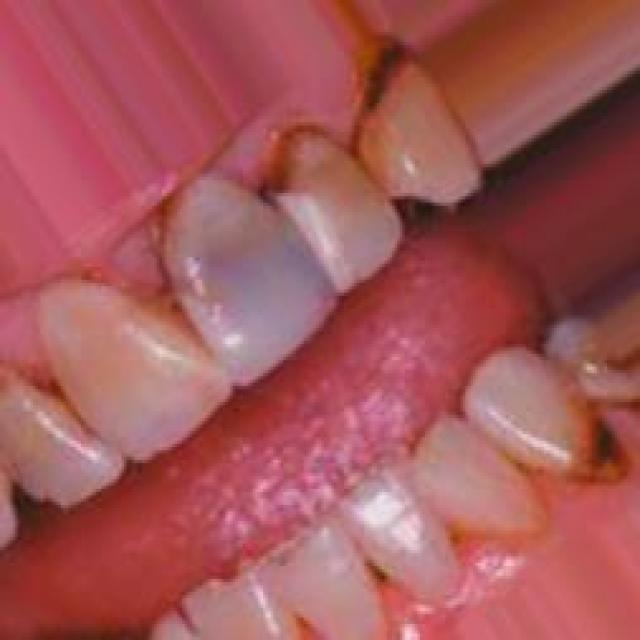caries: (548, 383, 636, 499)
